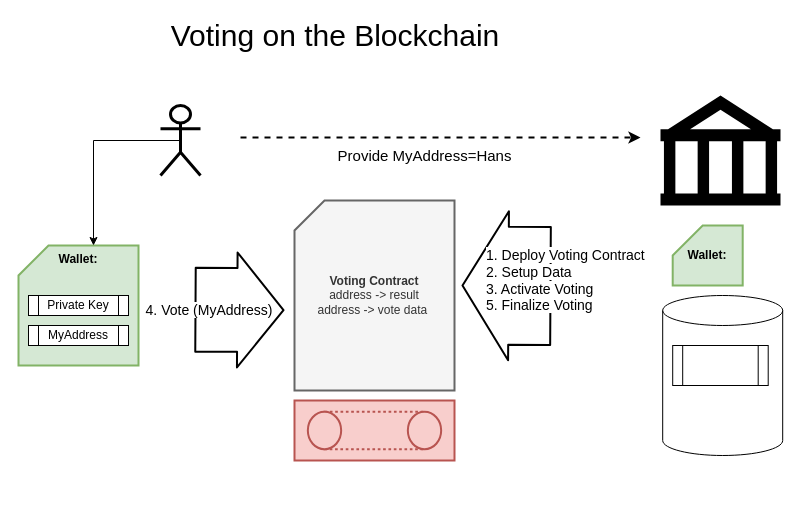
The diagram is 800 pixels wide and 507 high, and some of its shapes have lost their labels. Each missing label, with the box of its shape:
address vote data: (672, 344, 768, 386)
Blockchain: (293, 399, 455, 461)
Voter: (158, 104, 202, 176)
